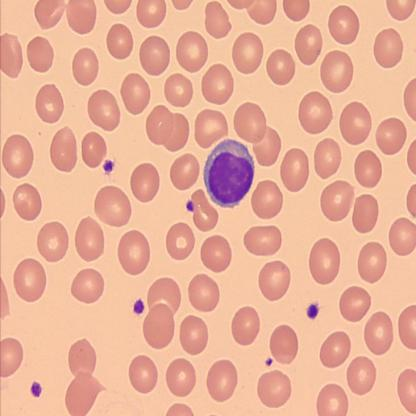Lymphocyte: (203, 138, 255, 209)
